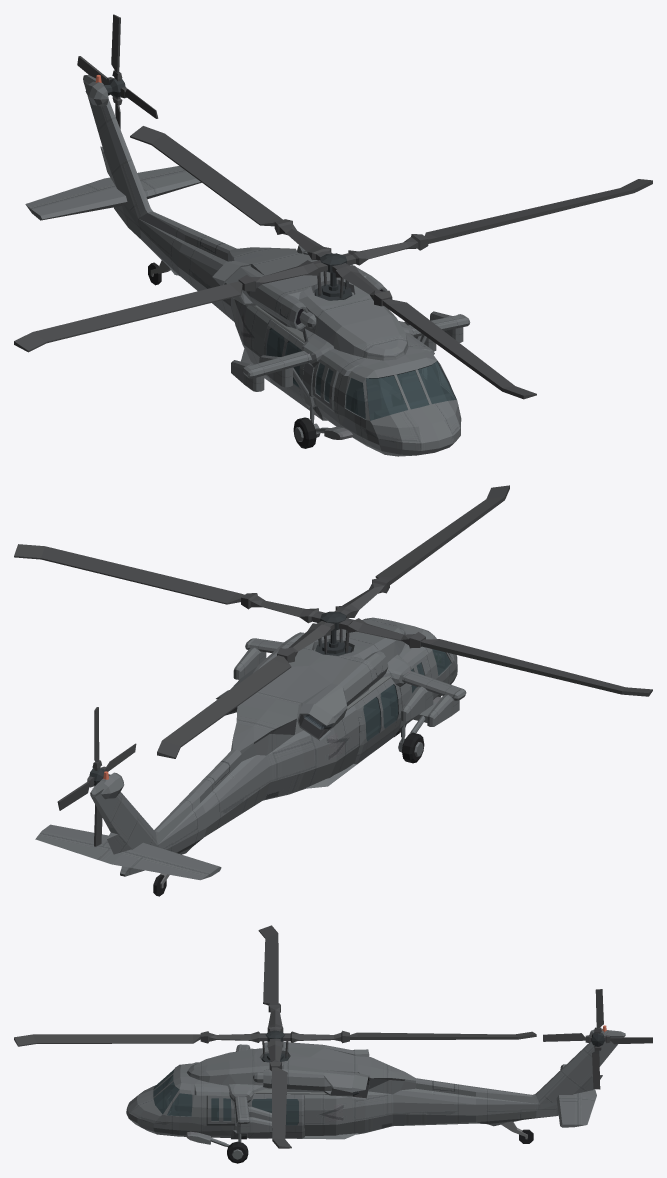
The model's file is transport-helicopter.glb.
The picture shows the model from 3 angles, top to bottom: view 1: azimuth 30°, elevation 25°; view 2: azimuth 150°, elevation 25°; view 3: azimuth 270°, elevation 25°; orthographic projection. The views are drawn at different scales.
Parts seen in each view (by area): view 1: SM_Veh_Helicopter_Transport_01, SM_Veh_Helicopter_Transport_01_Blades_Main, SM_Veh_Helicopter_Transport_01_Glass, SM_Veh_Helicopter_Transport_01_Weapon_Attach, SM_Veh_Helicopter_Transport_01_Blades_Back, SM_Veh_Helicopter_Transport_01_Door_2_Glass; view 2: SM_Veh_Helicopter_Transport_01, SM_Veh_Helicopter_Transport_01_Blades_Main, SM_Veh_Helicopter_Transport_01_Weapon_Attach, SM_Veh_Helicopter_Transport_01_Blades_Back, SM_Veh_Helicopter_Transport_01_Door_2_Glass; view 3: SM_Veh_Helicopter_Transport_01, SM_Veh_Helicopter_Transport_01_Blades_Main, SM_Veh_Helicopter_Transport_01_Glass, SM_Veh_Helicopter_Transport_01_Blades_Back, SM_Veh_Helicopter_Transport_01_Weapon_Attach, SM_Veh_Helicopter_Transport_01_Door_1_Glass.
Boxes of the visible parts, x1,y1,x2,y2 form: SM_Veh_Helicopter_Transport_01: [25, 75, 461, 456]; SM_Veh_Helicopter_Transport_01_Blades_Main: [14, 126, 652, 399]; SM_Veh_Helicopter_Transport_01_Glass: [315, 361, 455, 420]; SM_Veh_Helicopter_Transport_01_Weapon_Attach: [231, 311, 470, 398]; SM_Veh_Helicopter_Transport_01_Blades_Back: [77, 14, 158, 129]; SM_Veh_Helicopter_Transport_01_Door_2_Glass: [266, 328, 301, 386]; SM_Veh_Helicopter_Transport_01: [35, 617, 457, 896]; SM_Veh_Helicopter_Transport_01_Blades_Main: [14, 485, 652, 758]; SM_Veh_Helicopter_Transport_01_Weapon_Attach: [233, 638, 466, 726]; SM_Veh_Helicopter_Transport_01_Blades_Back: [57, 707, 136, 846]; SM_Veh_Helicopter_Transport_01_Door_2_Glass: [363, 684, 398, 740]; SM_Veh_Helicopter_Transport_01: [126, 1025, 625, 1163]; SM_Veh_Helicopter_Transport_01_Blades_Main: [14, 925, 536, 1148]; SM_Veh_Helicopter_Transport_01_Glass: [153, 1069, 231, 1120]; SM_Veh_Helicopter_Transport_01_Blades_Back: [543, 989, 652, 1089]; SM_Veh_Helicopter_Transport_01_Weapon_Attach: [234, 1044, 272, 1132]; SM_Veh_Helicopter_Transport_01_Door_1_Glass: [252, 1098, 298, 1125].
Bounding box in the file's own units: 16.42 × 5.5 × 20.07.
Materials: 2 (1 with a texture image).
